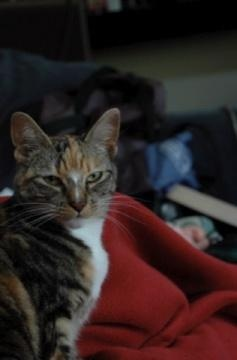cat: (1, 107, 123, 360)
